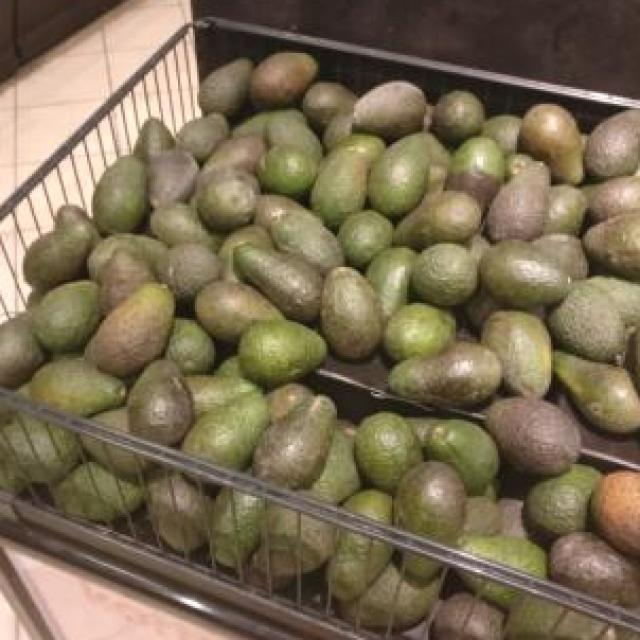Avocado: (252, 390, 341, 488), (230, 231, 328, 314), (84, 278, 168, 373), (492, 394, 580, 483), (379, 347, 506, 407), (490, 157, 558, 246), (233, 326, 337, 384), (131, 361, 195, 454), (488, 237, 574, 303), (328, 267, 382, 360), (312, 142, 362, 229), (375, 136, 426, 217)
